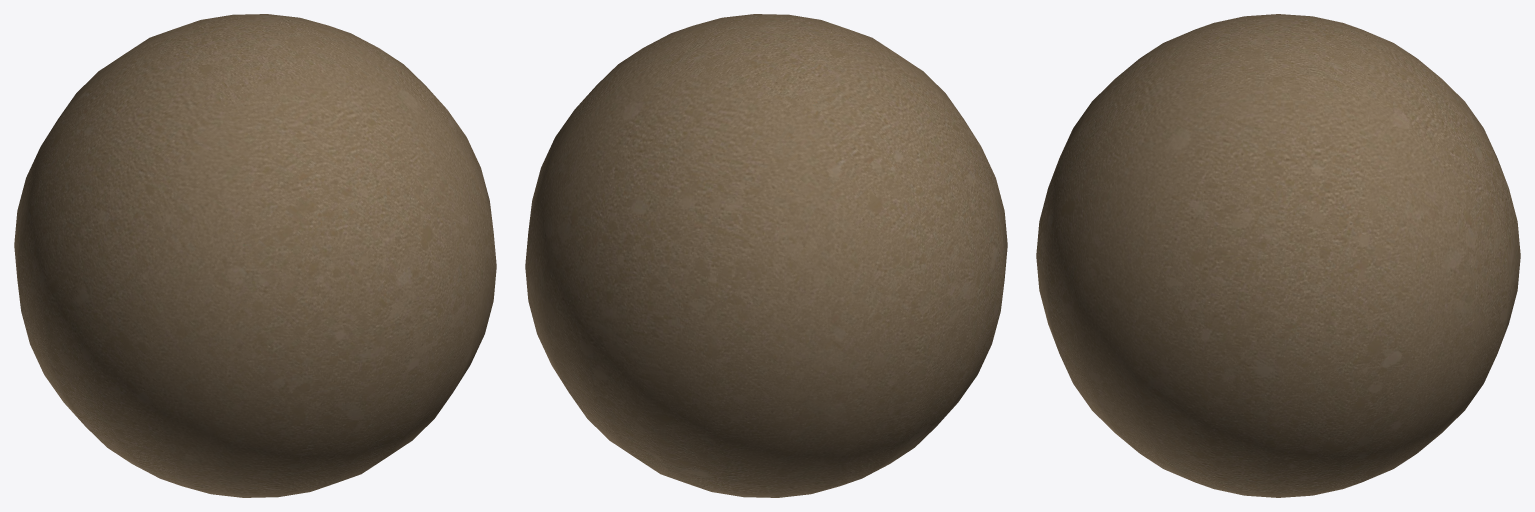
File: q3d-08-mid-l90.glb
3 renders of one model, left to right at view 1: azimuth 30°, elevation 25°; view 2: azimuth 150°, elevation 25°; view 3: azimuth 270°, elevation 25°, orthographic.
Bounding box in the file's own units: 1.35 × 1.35 × 1.35.
Materials: 1 (1 with a texture image).
